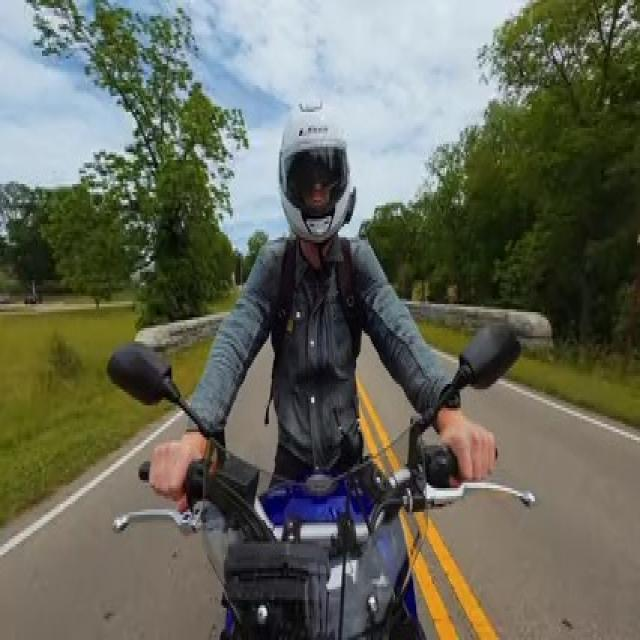Helmet_Wearer: (268, 88, 360, 250)
Person: (161, 111, 510, 513)
